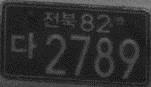2: (43, 32, 69, 77), (96, 13, 111, 33)
7: (65, 33, 91, 76)
8: (95, 37, 114, 77), (79, 12, 94, 32)
9: (117, 39, 141, 80)
다: (6, 30, 40, 60)
전북_O: (44, 9, 75, 28)
